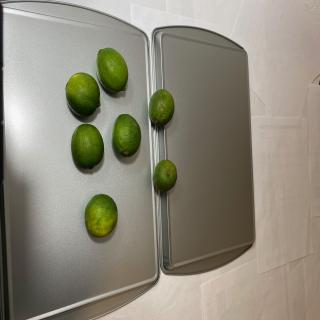Lemon: (71, 123, 104, 170), (84, 193, 118, 238), (66, 72, 100, 117), (96, 47, 128, 93), (112, 114, 141, 158), (148, 89, 174, 126), (152, 160, 178, 192)
